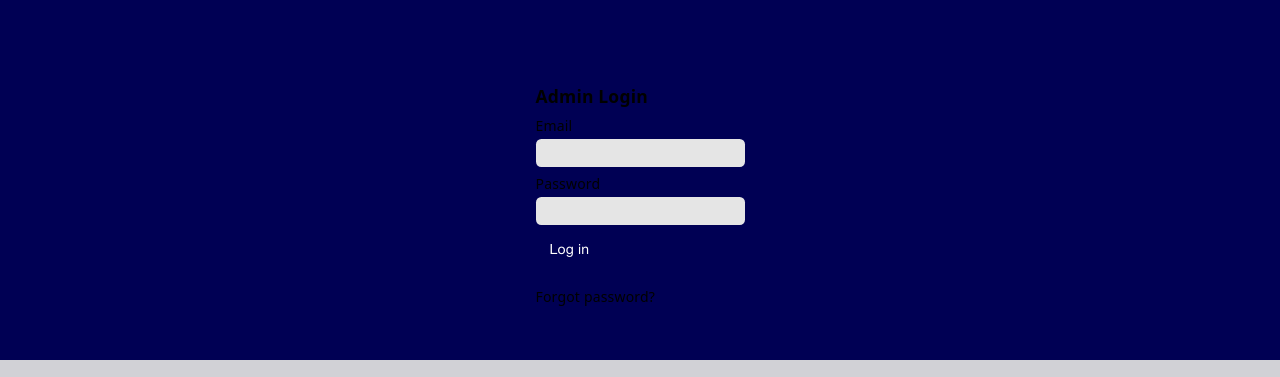
Scenario: AdminLoginPage › logging in › shows the server's error message when the login is rejected
Step 1. Type "admin@example.com" into the field labelled "Email" → (640, 153), box top-left (536, 139), bottom-right (744, 167)
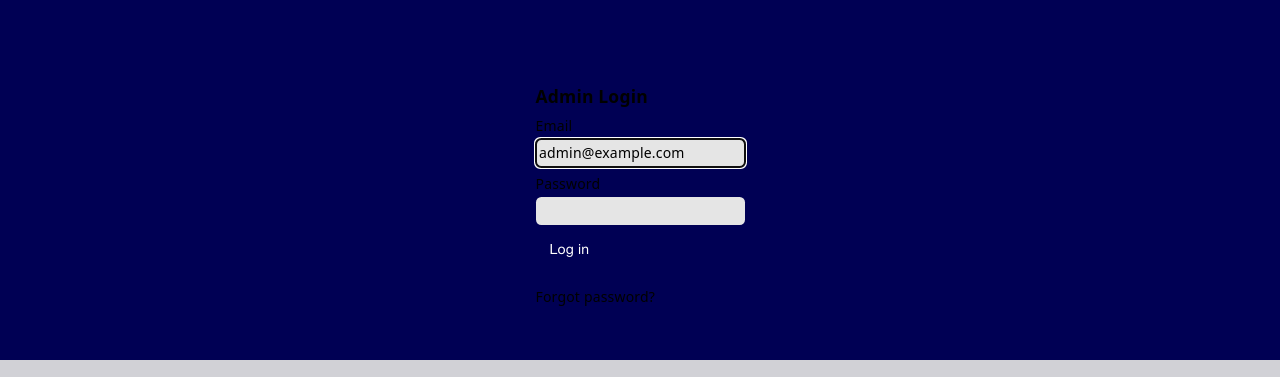
Step 2. Type "secret123" into the password field labelled "Password" → (640, 211), box top-left (536, 197), bottom-right (744, 225)
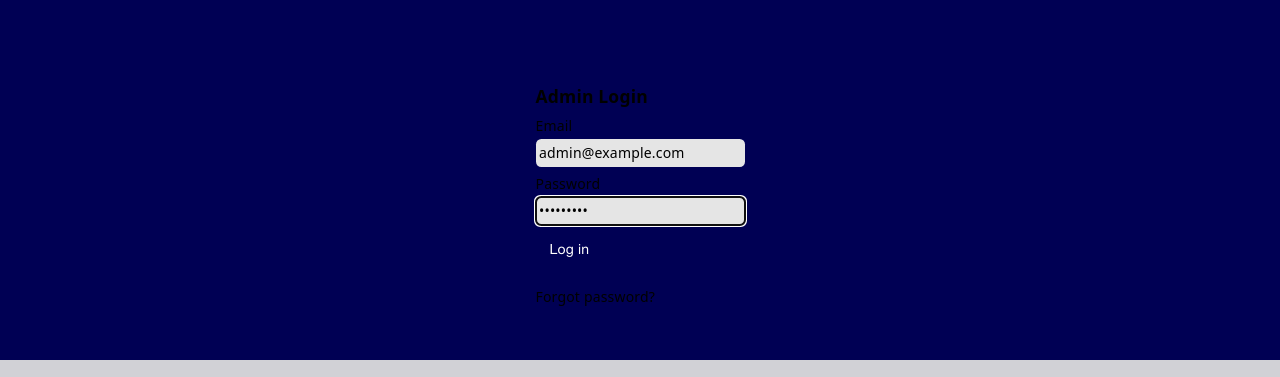
Step 3. Click the button "Log in" → (569, 249), box top-left (536, 232), bottom-right (603, 266)
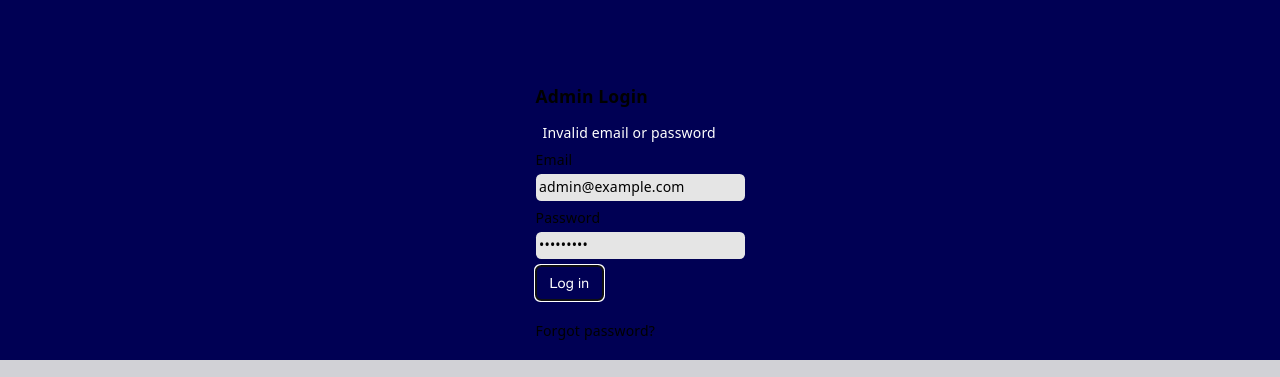
Check: the text "Invalid email or password" is shown, box top-left (536, 116), bottom-right (744, 150)
